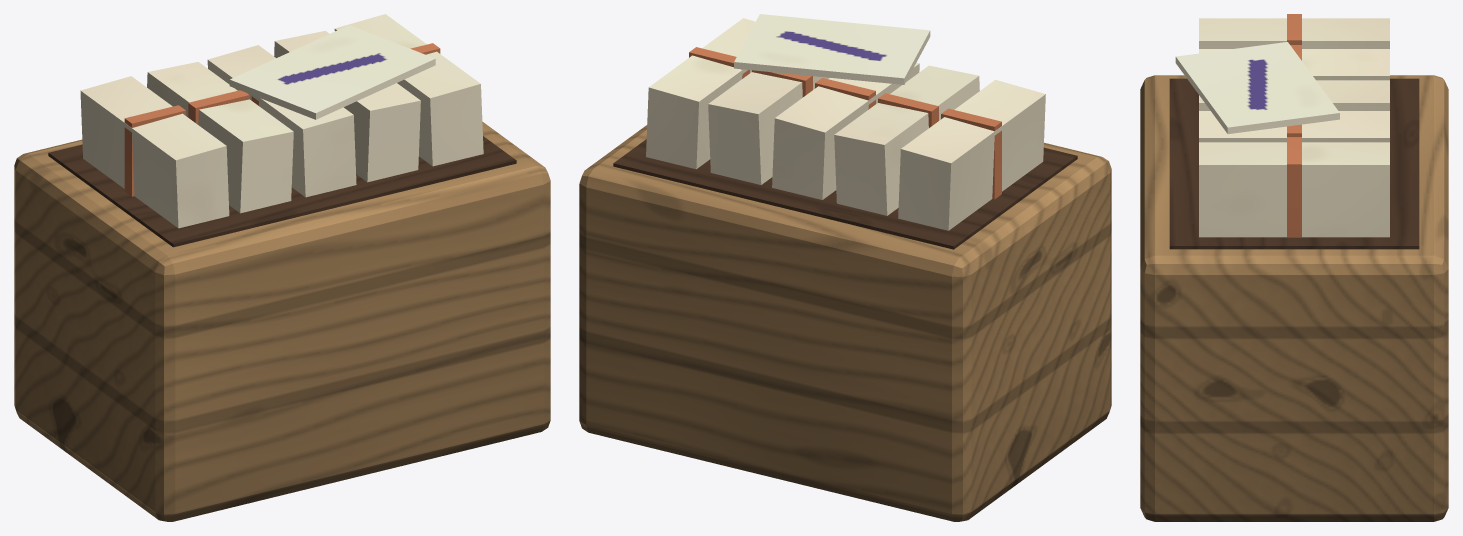
Rendered from letters_box.glb.
3 views of the same model, side by side, from view 1: azimuth 30°, elevation 25°; view 2: azimuth 150°, elevation 25°; view 3: azimuth 270°, elevation 25° (orthographic).
Visible parts, largest first — view 1: LettersBox; view 2: LettersBox; view 3: LettersBox.
Part boxes in pixels (<box>): LettersBox: <box>14,14,550,521</box>; LettersBox: <box>579,14,1111,521</box>; LettersBox: <box>1140,14,1448,521</box>.
Bounding box in the file's own units: 0.62 × 0.545 × 0.42.
Materials: 1 (1 with a texture image).
